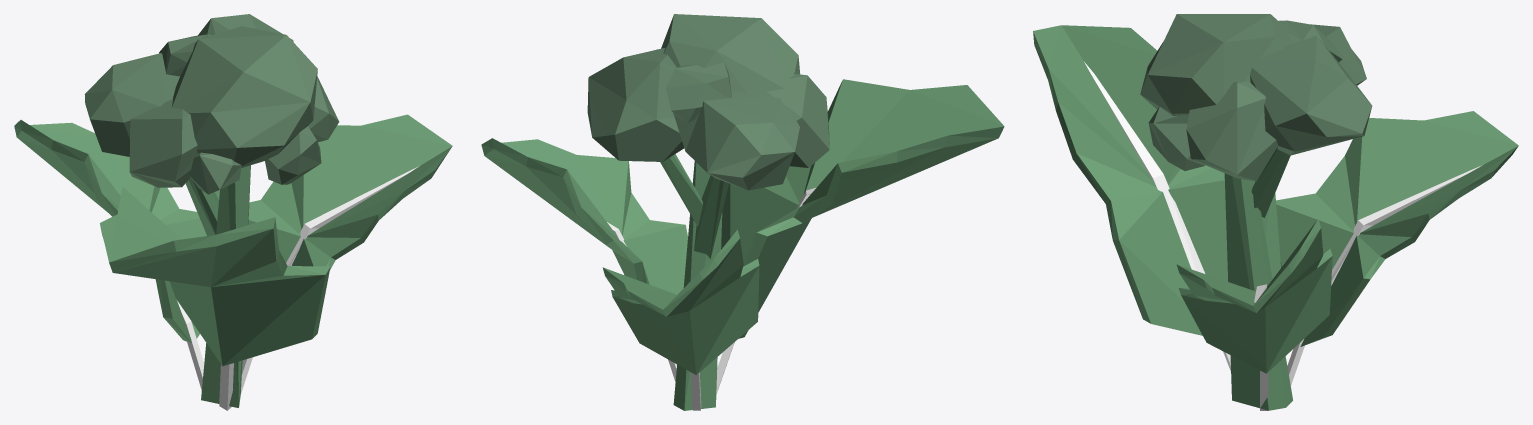
The model's file is brokoly.glb.
3 views of the same model, side by side, from view 1: azimuth 30°, elevation 25°; view 2: azimuth 150°, elevation 25°; view 3: azimuth 270°, elevation 25° (orthographic). The views are drawn at different scales.
Visible parts, largest first — view 1: brokoly; view 2: brokoly; view 3: brokoly.
Boxes of the visible parts, bbox=[...] form: brokoly: bbox=[14, 14, 452, 410]; brokoly: bbox=[481, 14, 1004, 410]; brokoly: bbox=[1033, 14, 1518, 410].
Size of the model in its own units: 0.9472 by 0.7692 by 0.8786.
Materials: 1 (1 with a texture image).
